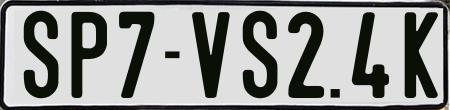2: (285, 12, 325, 99)
4: (352, 10, 391, 96)
7: (119, 9, 155, 100)
K: (403, 10, 431, 100)
P: (69, 10, 111, 102)
S: (22, 11, 61, 99), (241, 11, 278, 99)
V: (192, 11, 234, 102)
